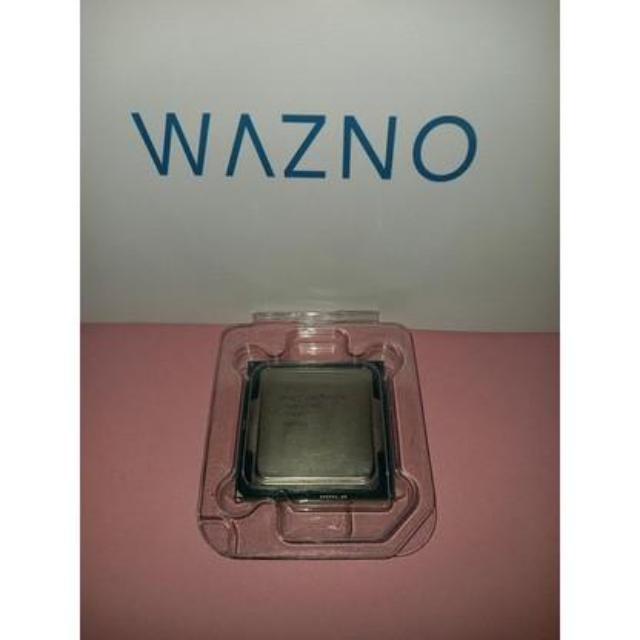CPU: (239, 364, 393, 504)
